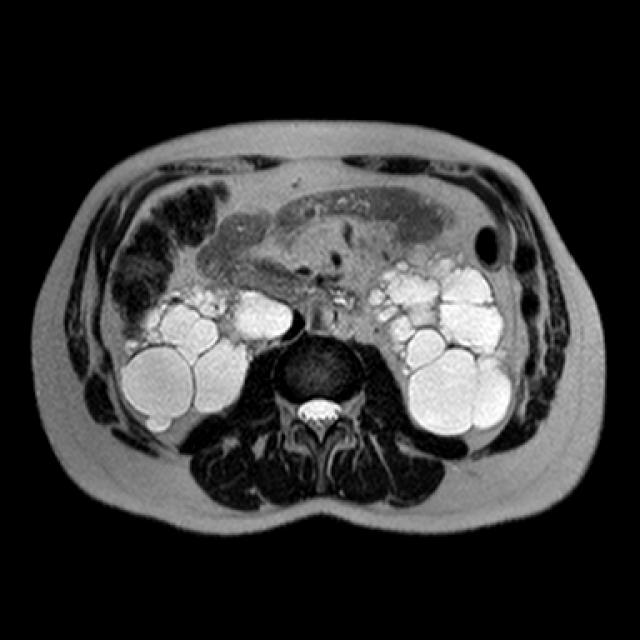sag: (120, 283, 292, 434)
sol: (362, 239, 514, 436)
